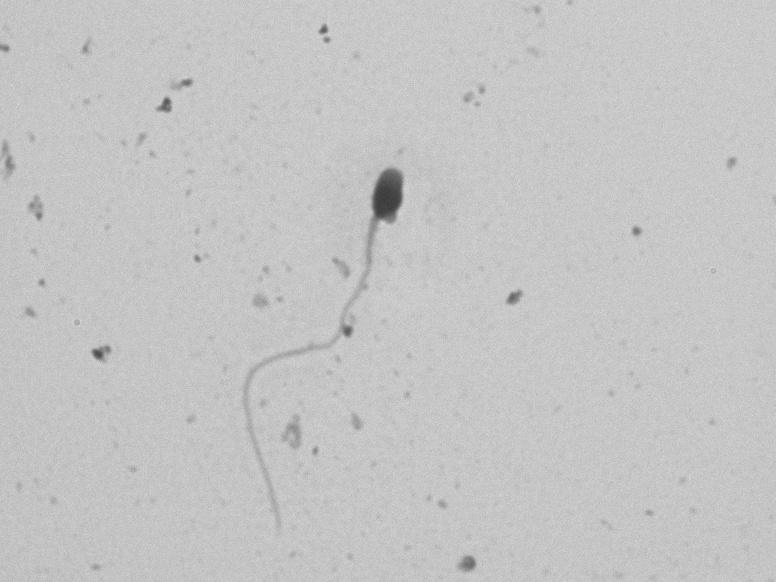Abnormal: (222, 146, 427, 545)
